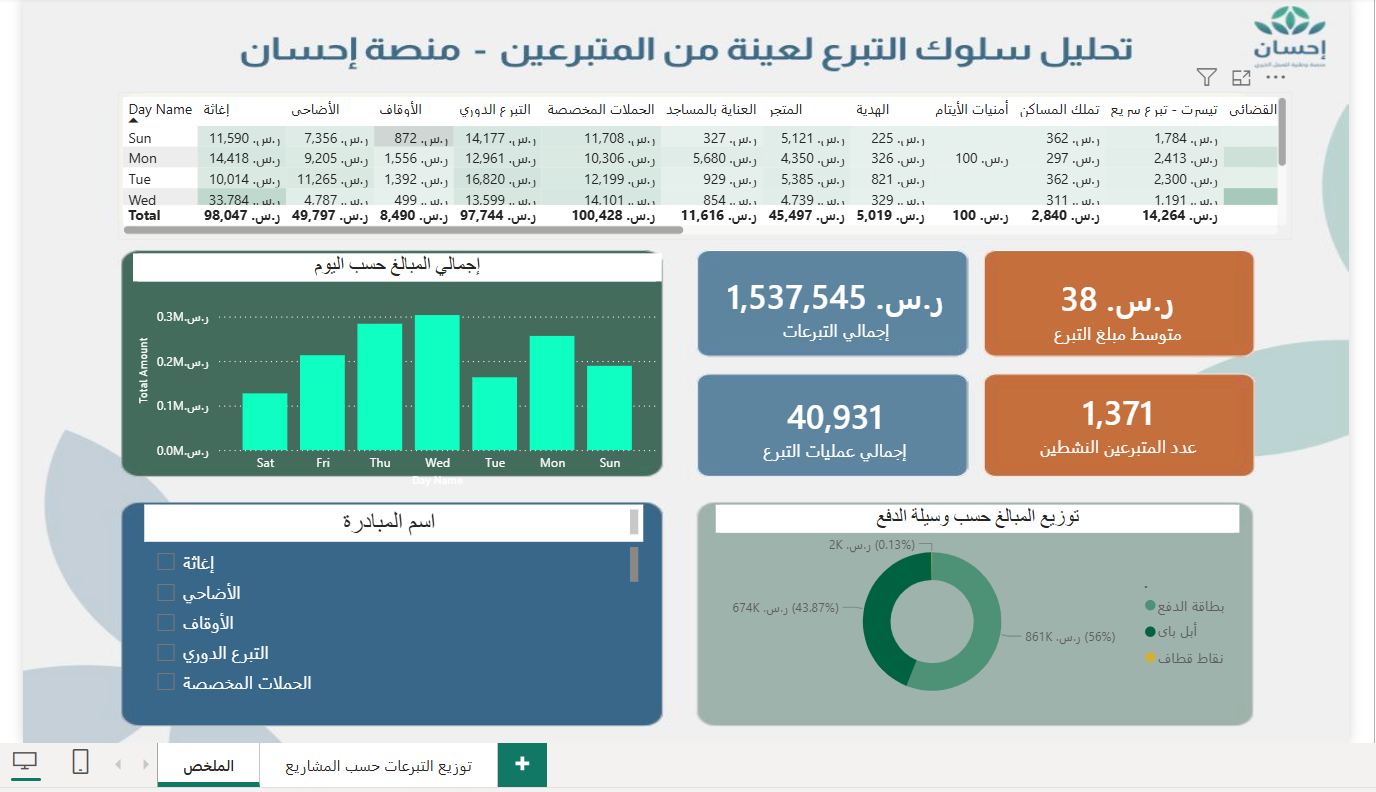

The dashboard page shown, as its layout file describes it:
{"tool":"powerbi","page":{"name":"الملخص","canvas":[1280,720],"ordinal":0},"visuals":[{"type":"clusteredColumnChart","title":"إجمالي المبالغ حسب اليوم","fields":{"Category":["Date Table.Day Name"],"Y":["Ehsan.Total Amount"]},"box":[106.2,247.3,492.2,229.2],"z":0},{"type":"slicer","fields":{"Values":["Ehsan.InitiativeName"]},"box":[117.1,525.7,481.4,155.7],"z":1000},{"type":"pivotTable","fields":{"Rows":["Date Table.Day Name"],"Columns":["Ehsan.InitiativeName"],"Values":["Ehsan.Total Amount"]},"box":[91.4,91.4,1132.9,142.9],"z":2000},{"type":"donutChart","title":" توزيع المبالغ حسب وسيلة الدفع","fields":{"Category":["Ehsan.PaymentMethod"],"Y":["Ehsan.Total Amount"]},"box":[668.4,489.8,505.5,203.9],"z":3000},{"type":"cardVisual","fields":{"Data":["Sum(Ehsan.Amount)"]},"box":[645.7,245.7,278.6,107.1],"z":4000},{"type":"cardVisual","fields":{"Data":["Count(Ehsan.UserID)"]},"box":[951.4,360,210,104.3],"z":5000},{"type":"cardVisual","fields":{"Data":["CountNonNull(Ehsan.UserID)"]},"box":[678.6,357.1,211.4,117.1],"z":6000},{"type":"cardVisual","fields":{"Data":["Ehsan.Average Donation"]},"box":[962.9,245.7,188.6,111.4],"z":7000},{"type":"textbox","box":[117.1,490,481.4,35.7],"z":8000}]}

Visuals, with their boxes on the page's 1280x720 design canvas (x1, y1, x2, y2). These are canvas units, not pixel positions in the 1376x792 screenshot, which may show the page scaled, cropped or inside an application window:
"إجمالي المبالغ حسب اليوم" clusteredColumnChart: <box>106,247,598,476</box>
slicer - Ehsan.InitiativeName: <box>117,526,598,681</box>
pivotTable - Date Table.Day Name x Ehsan.InitiativeName: <box>91,91,1224,234</box>
" توزيع المبالغ حسب وسيلة الدفع" donutChart: <box>668,490,1174,694</box>
cardVisual - Sum(Ehsan.Amount): <box>646,246,924,353</box>
cardVisual - Count(Ehsan.UserID): <box>951,360,1161,464</box>
cardVisual - CountNonNull(Ehsan.UserID): <box>679,357,890,474</box>
cardVisual - Ehsan.Average Donation: <box>963,246,1152,357</box>
textbox: <box>117,490,598,526</box>
